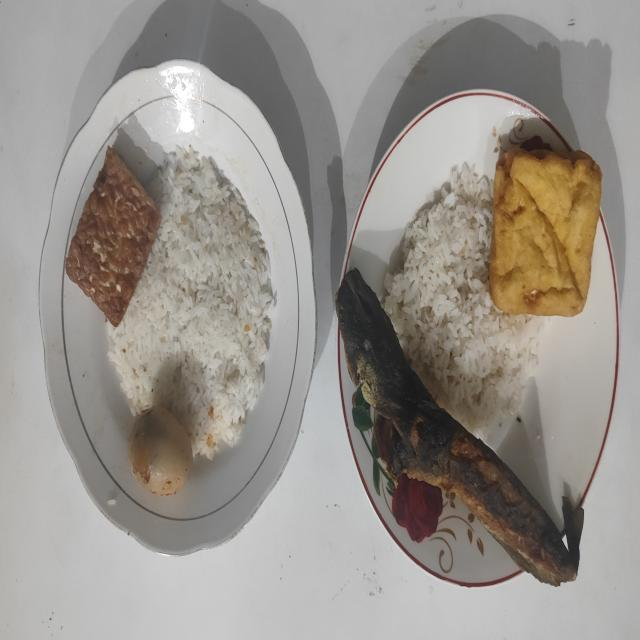nasi_putih: (106, 146, 276, 458), (381, 162, 545, 434)
tahu_goreng: (489, 146, 602, 316)
tempe_goreng: (66, 147, 160, 327)
